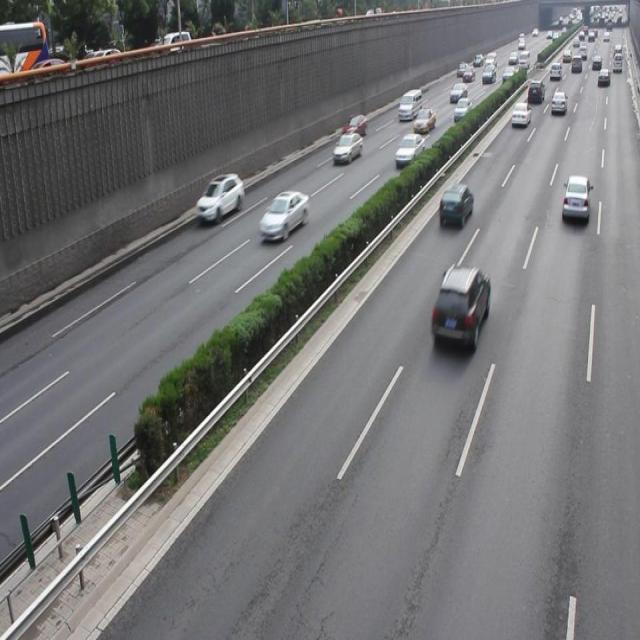car: (430, 264, 489, 351), (195, 172, 244, 225), (258, 190, 308, 240), (437, 182, 472, 229), (560, 175, 590, 222), (394, 132, 424, 167), (332, 132, 362, 164)
